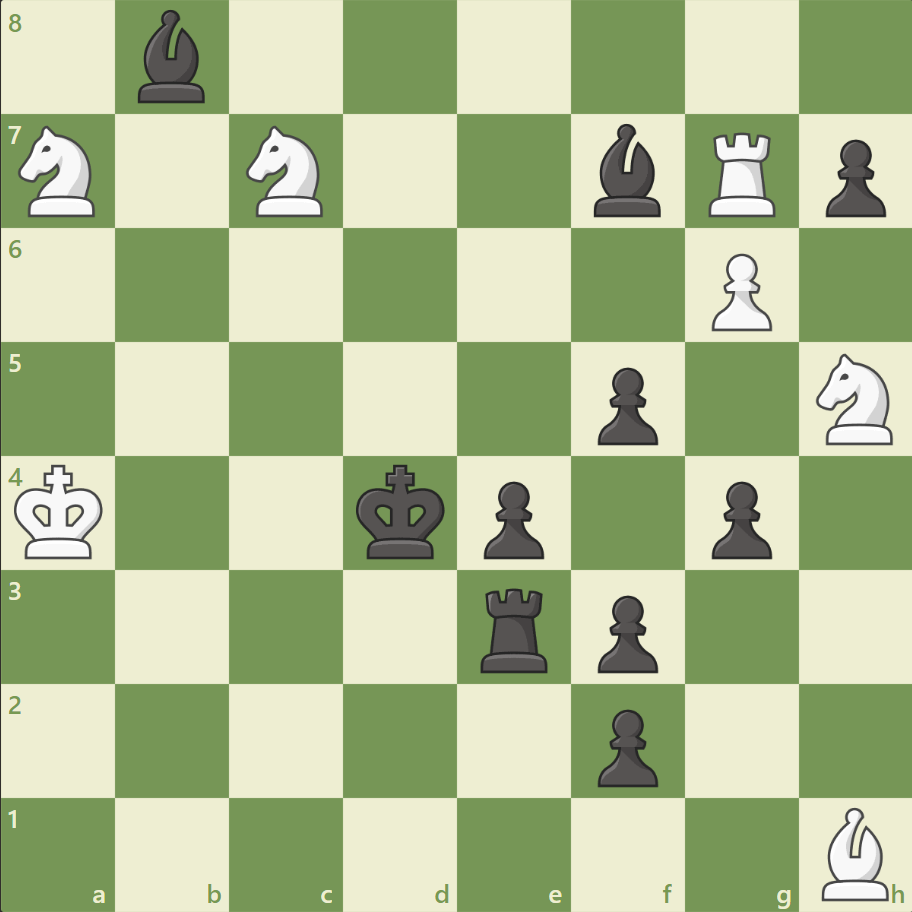B: (812, 801, 896, 904)
K: (11, 458, 111, 566)
N: (11, 121, 108, 223), (238, 121, 335, 223), (806, 348, 903, 450)
P: (701, 246, 776, 337)
R: (700, 125, 783, 222)
b: (131, 6, 215, 109), (585, 120, 669, 222)
k: (351, 458, 451, 566)
p: (474, 473, 549, 564), (701, 473, 776, 564), (815, 132, 889, 223), (588, 359, 662, 450), (588, 586, 662, 677), (588, 700, 662, 791)
r: (473, 579, 556, 676)
